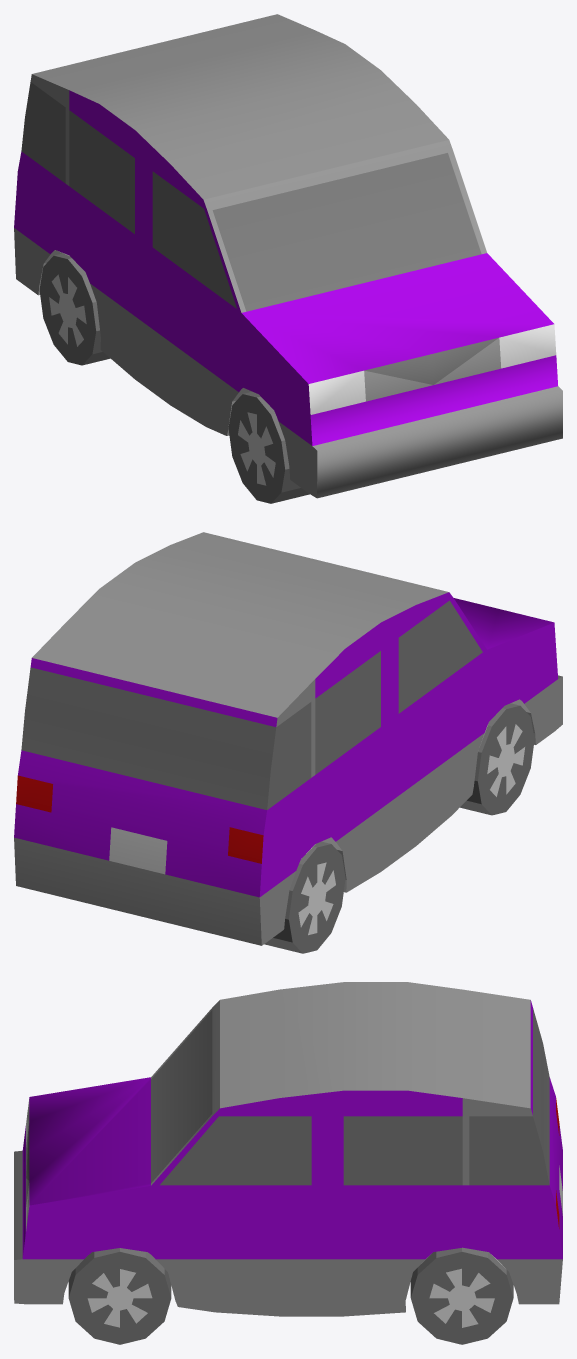
The model's file is car1.fbx.
The picture shows the model from 3 angles, top to bottom: view 1: azimuth 30°, elevation 25°; view 2: azimuth 150°, elevation 25°; view 3: azimuth 270°, elevation 25°; orthographic projection. The views are drawn at different scales.
Parts seen in each view (by area): view 1: polySurface4, pCylinder8, pCylinder7; view 2: polySurface4, pCylinder7, pCylinder8; view 3: polySurface4, pCylinder5, pCylinder6.
Part boxes in pixels (x1,y1,x2,y2): polySurface4: (14,14,562,498); pCylinder8: (228,391,309,503); pCylinder7: (39,253,110,365); polySurface4: (14,532,562,945); pCylinder7: (264,841,345,953); pCylinder8: (460,703,534,815); polySurface4: (14,982,562,1316); pCylinder5: (68,1248,171,1344); pCylinder6: (410,1247,513,1344).
Size of the model in its own units: 35.67 by 38.02 by 74.8.
